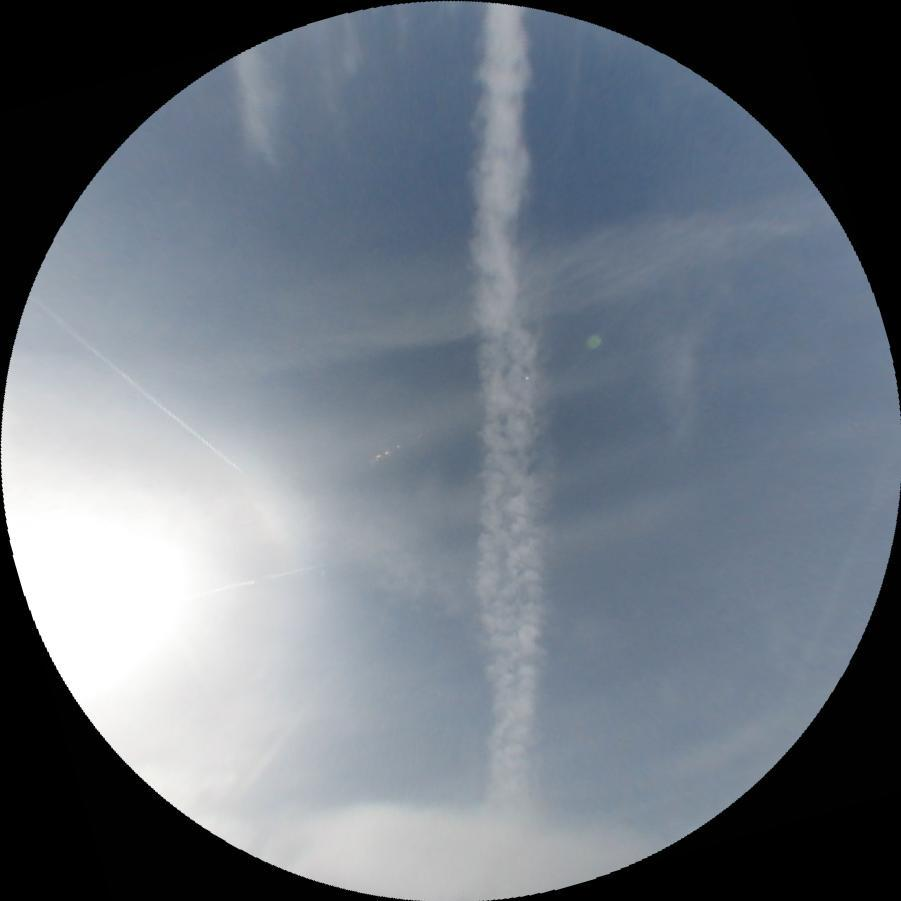contrail veryold: (466, 1, 552, 816)
contrail young: (26, 291, 243, 475)
parasite: (183, 561, 321, 600)
sun: (0, 466, 211, 709)
unknow: (240, 712, 304, 790)
